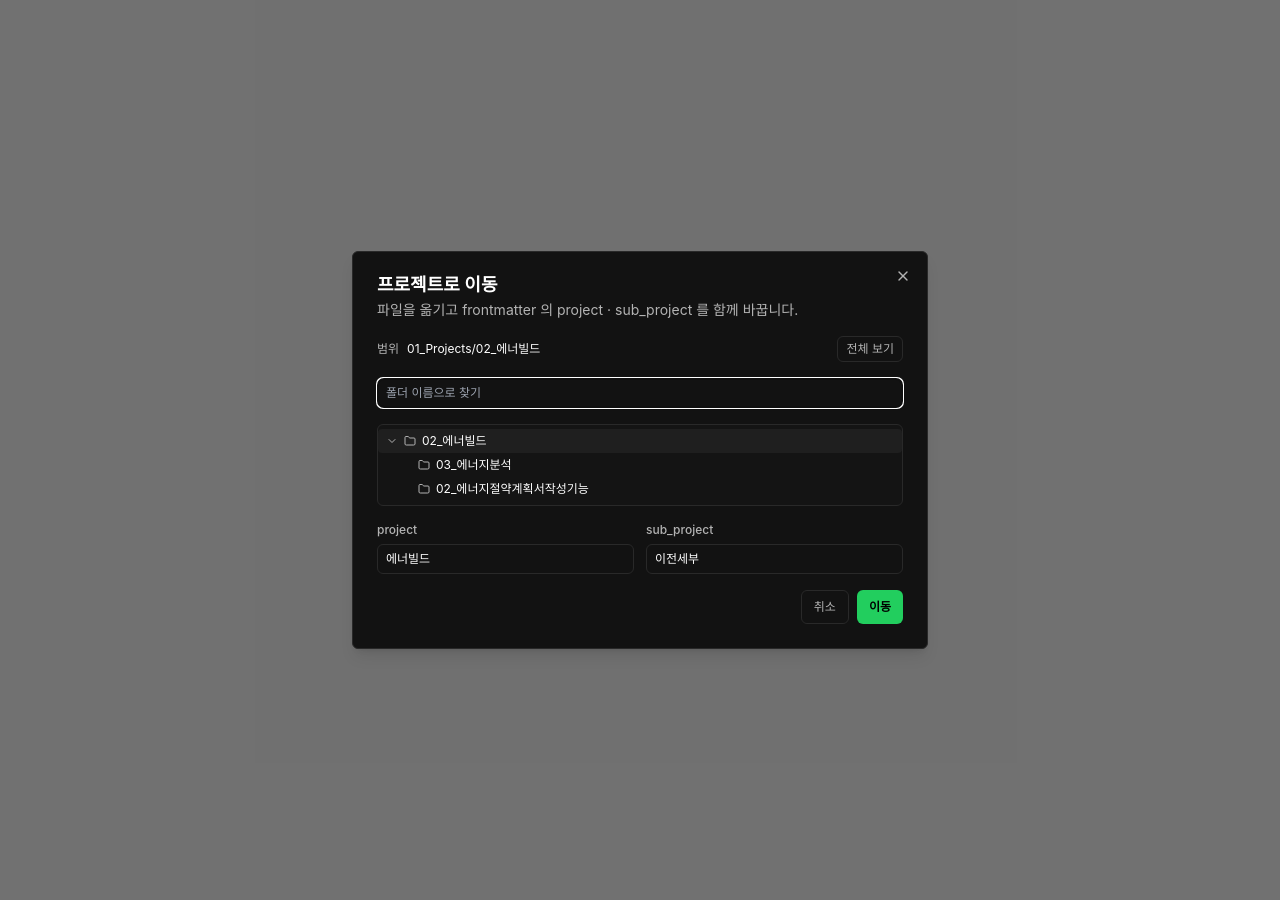
Test: MoveToProjectDialog — 범위·검색·매핑 › 검색으로 트리를 좁힌다
Expected: the button "03_에너지분석" is shown, [436, 457, 898, 473]
In the field named "폴더 검색": (640, 393) [377, 378, 903, 408], type "절약"
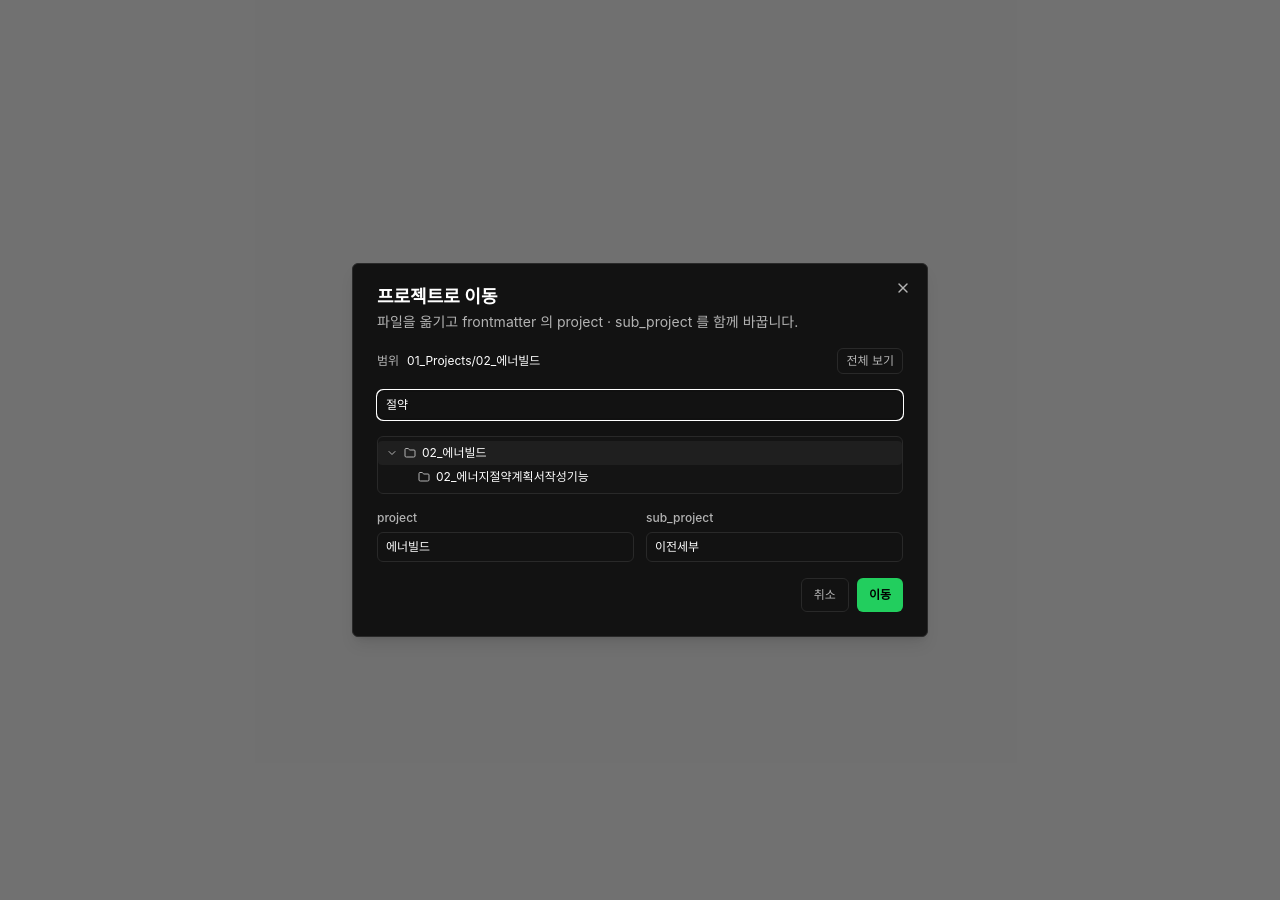
Expected: the button "02_에너지절약계획서작성기능" is shown, [436, 469, 898, 485]
Expected: the button "03_에너지분석" is gone
